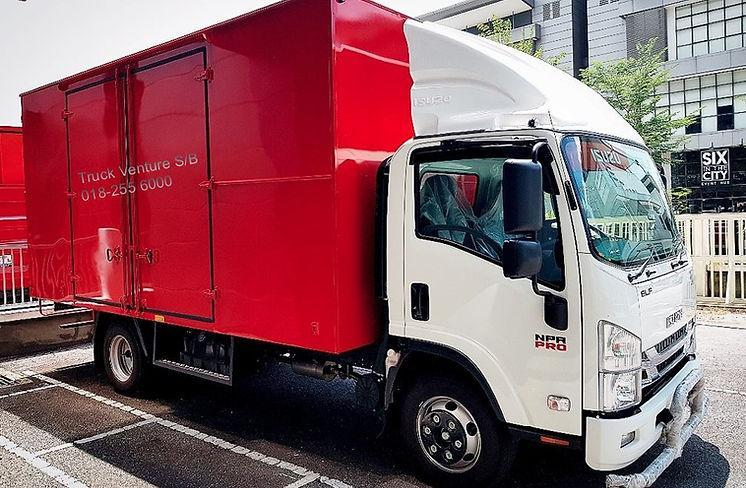truck: (19, 1, 705, 488)
